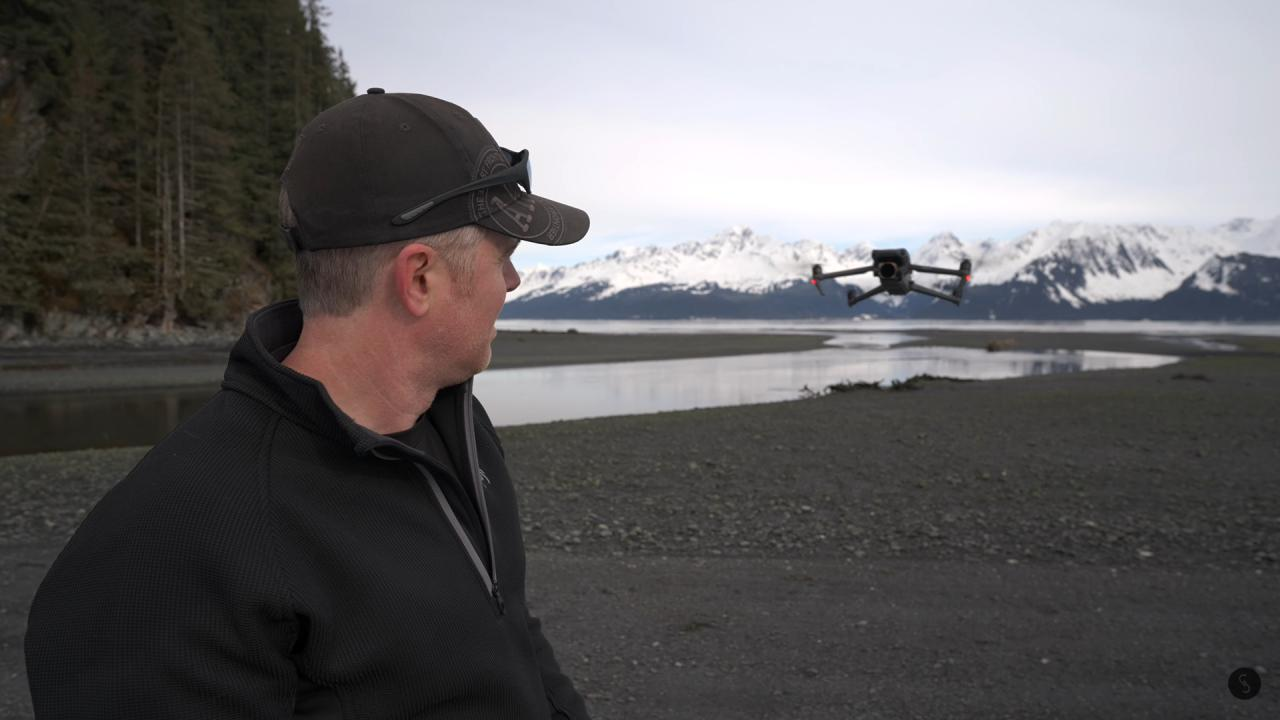Drone: (792, 235, 988, 321)
